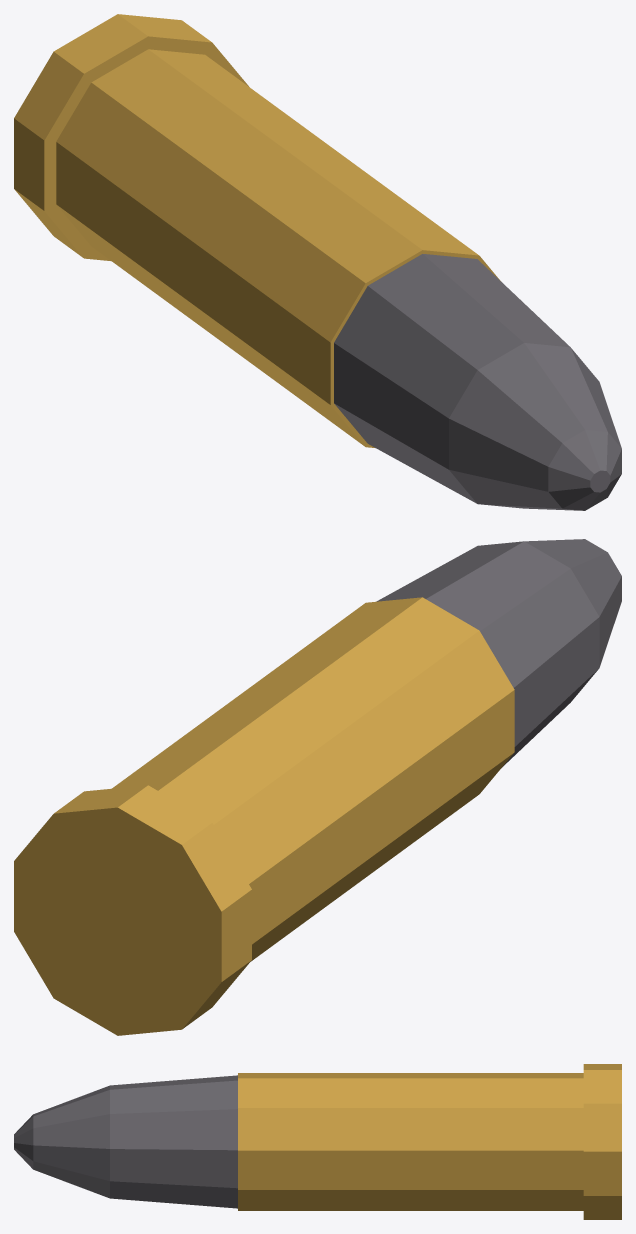
File: SM_Bullet.fbx
3 renders of one model, top to bottom at view 1: azimuth 30°, elevation 25°; view 2: azimuth 150°, elevation 25°; view 3: azimuth 270°, elevation 25°, orthographic. The views are drawn at different scales.
Parts seen in each view (by area): view 1: Bullet; view 2: Bullet; view 3: Bullet.
Part boxes in pixels (x1,y1,x2,y2): Bullet: (14, 14, 621, 510); Bullet: (14, 539, 621, 1035); Bullet: (14, 1064, 621, 1219).
Bounding box in the file's own units: 11.79 × 47.5 × 12.4.
